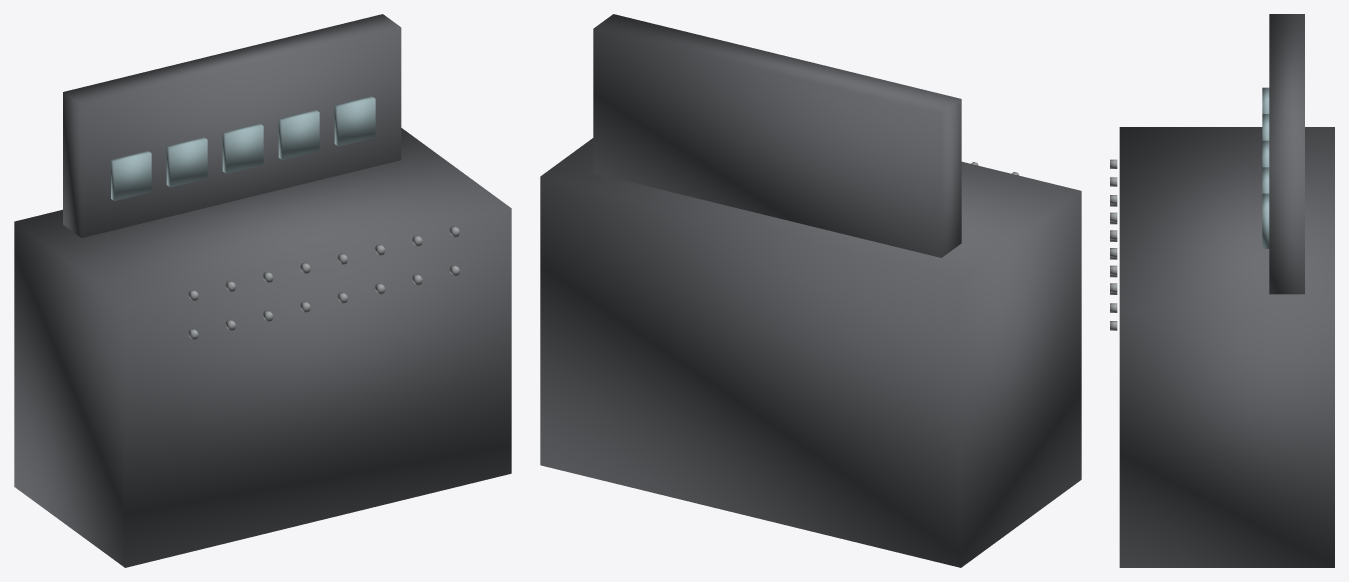
Rendered from dispatch_console__tall.glb.
3 renders of one model, left to right at view 1: azimuth 30°, elevation 25°; view 2: azimuth 150°, elevation 25°; view 3: azimuth 270°, elevation 25°, orthographic. The views are drawn at different scales.
Visible parts, largest first — view 1: world; view 2: world; view 3: world.
Boxes of the visible parts, left/top/right/bottom form: world: left=14, top=14, right=511, bottom=567; world: left=540, top=14, right=1081, bottom=567; world: left=1110, top=14, right=1334, bottom=567.
Size of the model in its own units: 1.45 by 1.43 by 0.7525.
